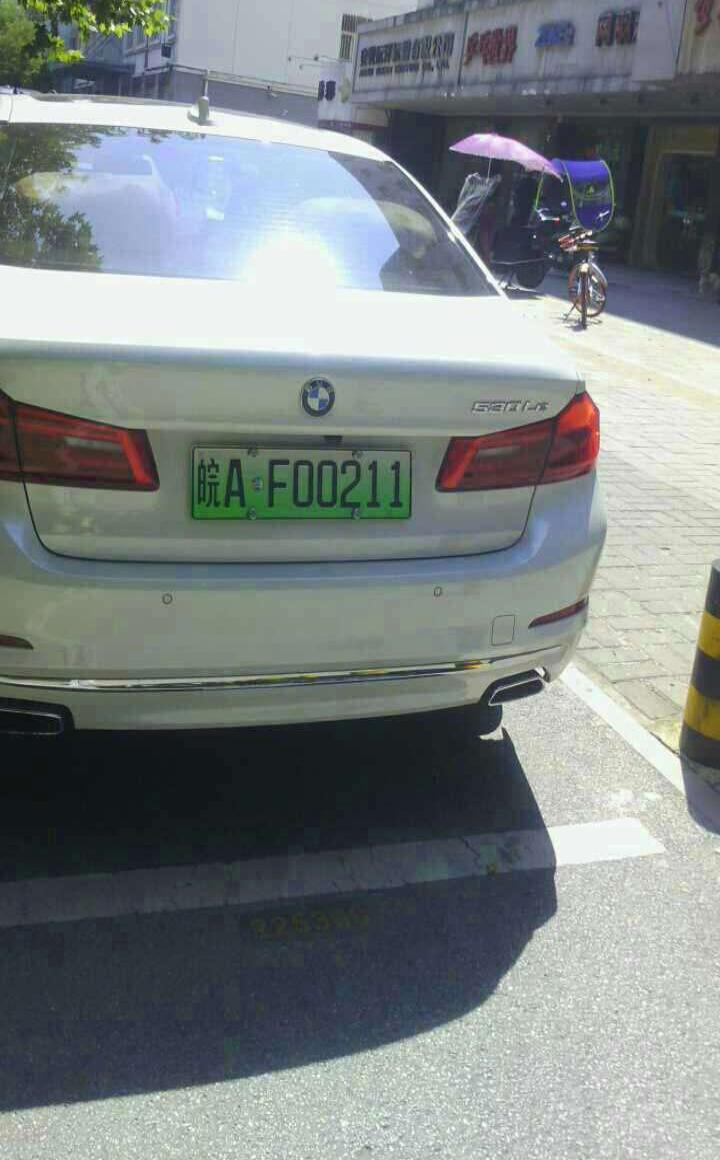car_id: (191, 446, 415, 520)
